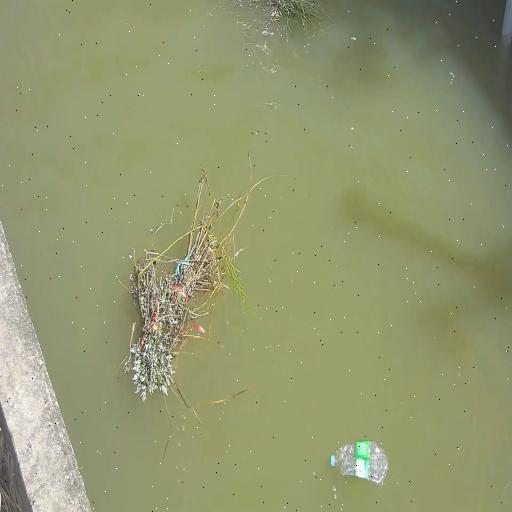plastic: (330, 441, 387, 484), (330, 455, 334, 466)
twig: (123, 168, 263, 407), (252, 0, 319, 30)
